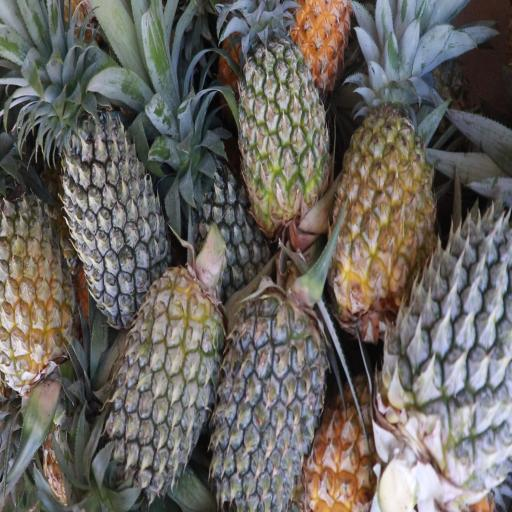------------------------------: (232, 22, 331, 234)
Pineapple - v8 v1: (330, 93, 439, 336), (0, 197, 74, 398), (315, 365, 399, 512)
